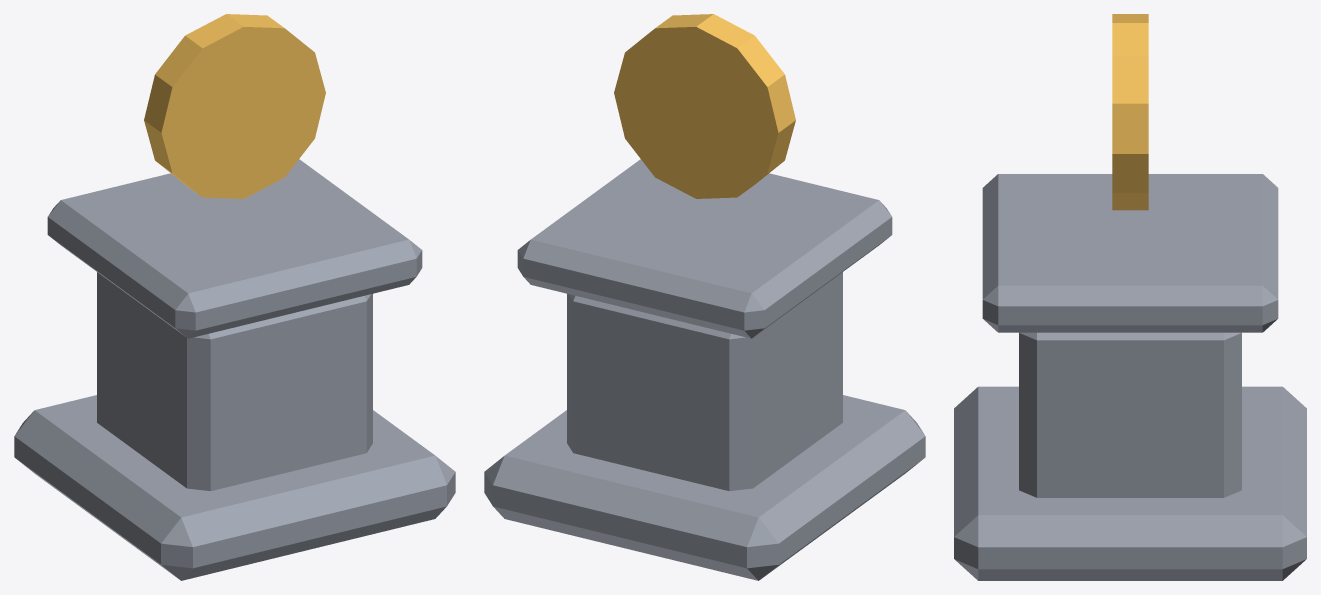
The model's file is pilar_galeao.glb.
3 renders of one model, left to right at view 1: azimuth 30°, elevation 25°; view 2: azimuth 150°, elevation 25°; view 3: azimuth 270°, elevation 25°, orthographic. The views are drawn at different scales.
Visible parts, largest first — view 1: vulcao_pilar_galeao; view 2: vulcao_pilar_galeao; view 3: vulcao_pilar_galeao.
Part boxes in pixels (box(x1,y1,x2,y2)): vulcao_pilar_galeao: box(14, 14, 455, 580); vulcao_pilar_galeao: box(484, 14, 925, 580); vulcao_pilar_galeao: box(954, 14, 1306, 580).
Size of the model in its own units: 0.68 by 1.05 by 0.68.
